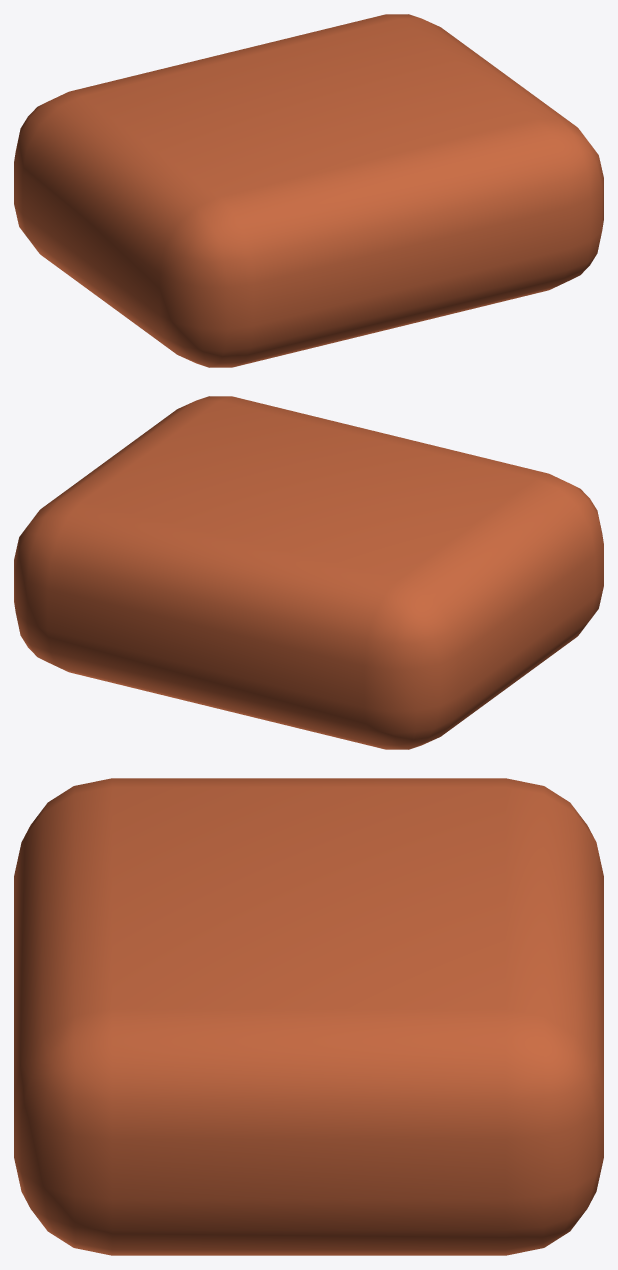
The model's file is magnetic_core_drill_motor_switch.glb.
The picture shows the model from 3 angles, top to bottom: view 1: azimuth 30°, elevation 25°; view 2: azimuth 150°, elevation 25°; view 3: azimuth 270°, elevation 25°; orthographic projection. The views are drawn at different scales.
Visible parts, largest first — view 1: magnetic_core_drill_motor_switch; view 2: magnetic_core_drill_motor_switch; view 3: magnetic_core_drill_motor_switch.
Part boxes in pixels (x1,y1,x2,y2): magnetic_core_drill_motor_switch: (14,14,603,367); magnetic_core_drill_motor_switch: (14,396,603,749); magnetic_core_drill_motor_switch: (14,778,603,1255).
Bounding box in the file's own units: 0.022 × 0.008 × 0.018.
